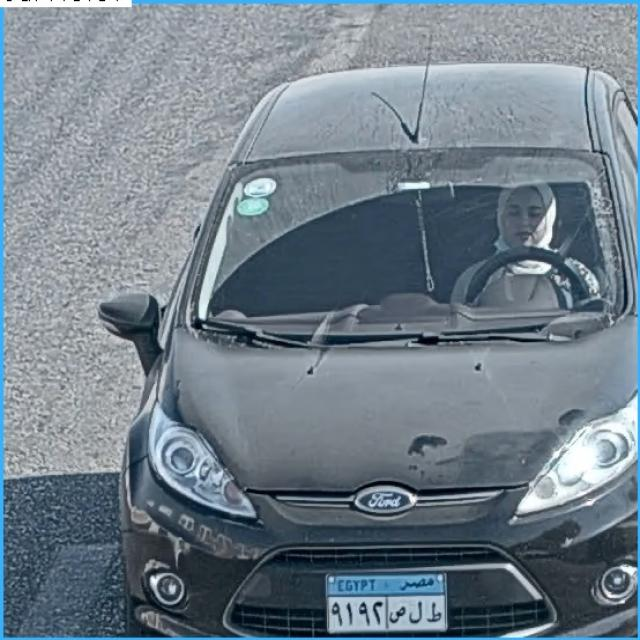windshield: (186, 154, 639, 332)
